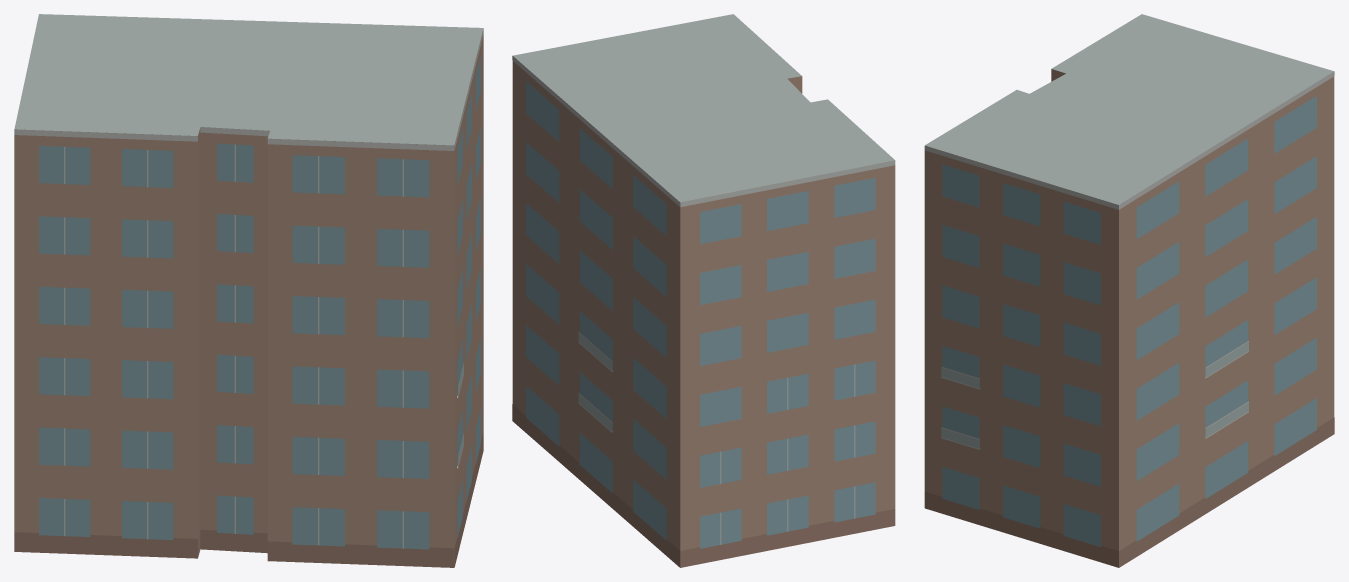
Rendered from survey-upis-32554205.glb.
The picture shows the model from 3 angles, left to right: view 1: azimuth 30°, elevation 25°; view 2: azimuth 150°, elevation 25°; view 3: azimuth 270°, elevation 25°; orthographic projection. The views are drawn at different scales.
Visible parts, largest first — view 1: survey-upis-32554205.tmp; view 2: survey-upis-32554205.tmp; view 3: survey-upis-32554205.tmp.
Part boxes in pixels (x1,y1,x2,y2): survey-upis-32554205.tmp: [14, 14, 483, 567]; survey-upis-32554205.tmp: [512, 14, 895, 567]; survey-upis-32554205.tmp: [924, 14, 1334, 567].
Size of the model in its own units: 20.68 by 18.3 by 18.74.
